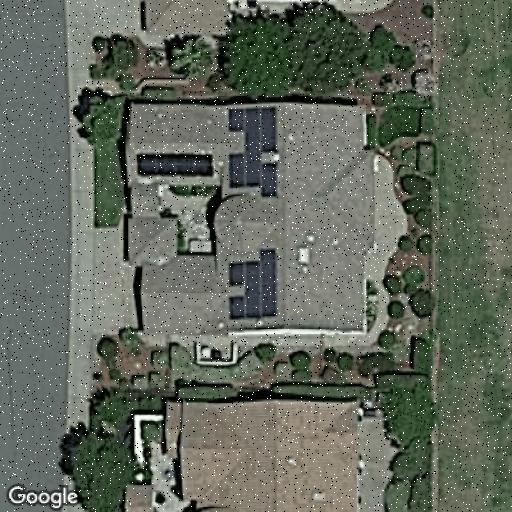solar-panel: (224, 106, 280, 200), (227, 246, 282, 319), (134, 149, 214, 179)
